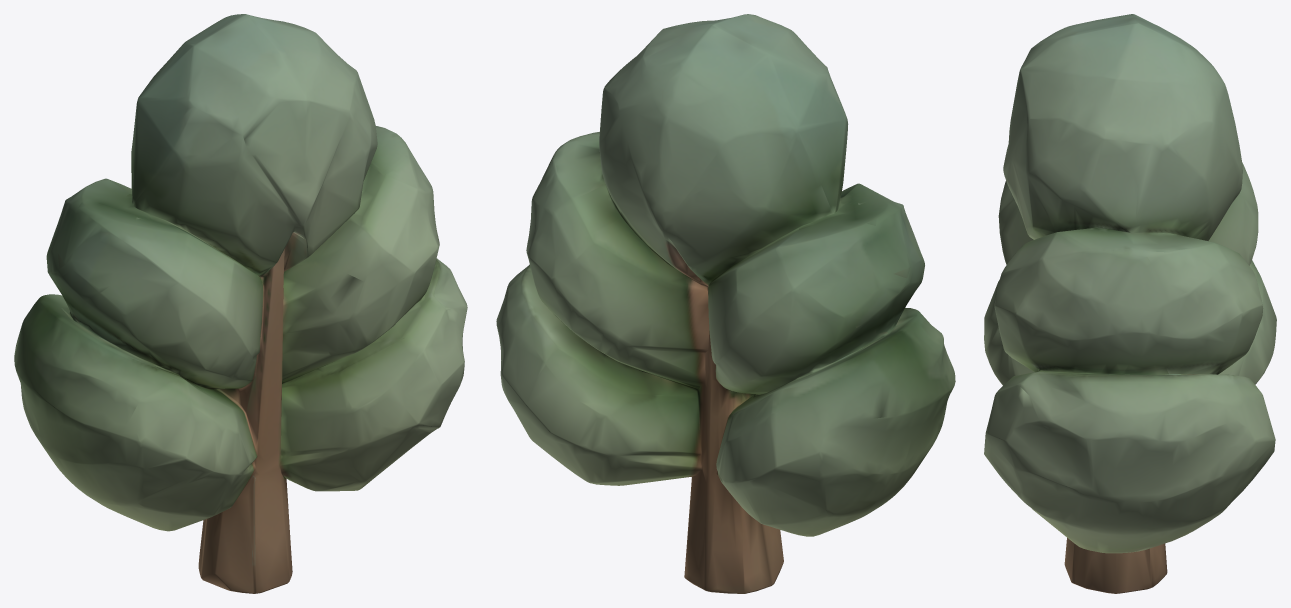
Rendered from tree8.fbx.
3 views of the same model, side by side, from view 1: azimuth 30°, elevation 25°; view 2: azimuth 150°, elevation 25°; view 3: azimuth 270°, elevation 25° (orthographic).
Parts seen in each view (by area): view 1: tree8; view 2: tree8; view 3: tree8.
Boxes of the visible parts, bbox=[...] form: tree8: bbox=[14, 14, 467, 593]; tree8: bbox=[496, 14, 955, 593]; tree8: bbox=[984, 14, 1276, 593].
Bounding box in the file's own units: 27.46 × 34.65 × 16.56.
1 material, 1 textured.
